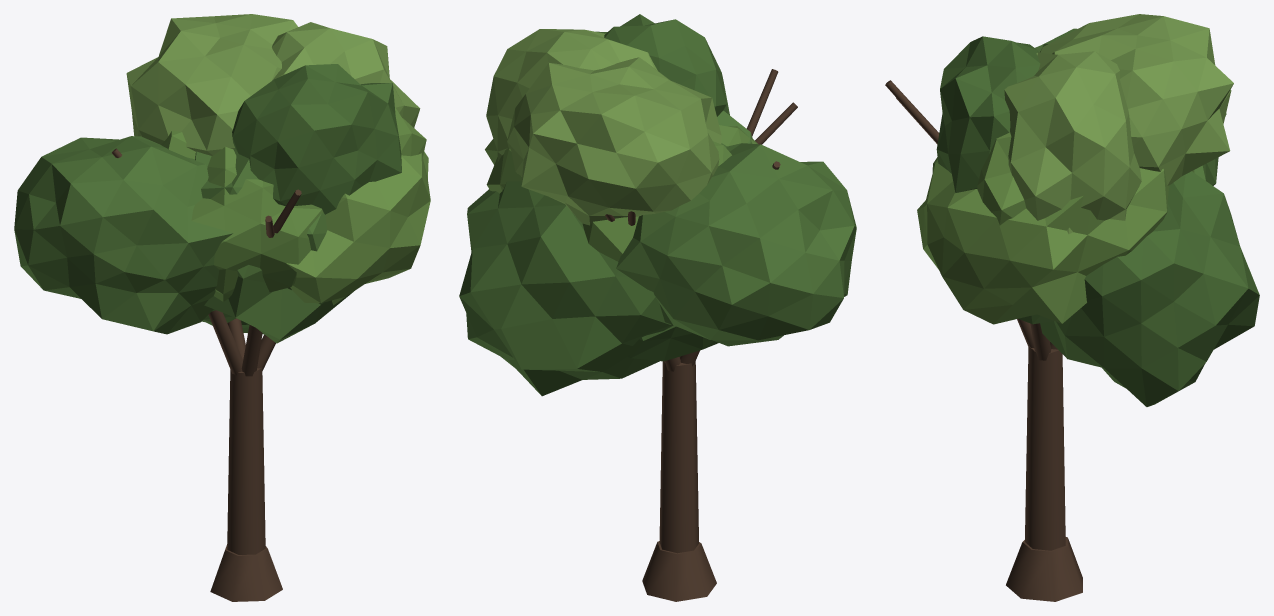
Rendered from tree-broad-0.obj.
3 renders of one model, left to right at view 1: azimuth 30°, elevation 25°; view 2: azimuth 150°, elevation 25°; view 3: azimuth 270°, elevation 25°, orthographic. The views are drawn at different scales.
Visible parts, largest first — view 1: part1; view 2: part1; view 3: part1.
Boxes of the visible parts, x1,y1,x2,y2 form: part1: [14, 14, 430, 601]; part1: [459, 14, 856, 601]; part1: [885, 14, 1259, 601].
Bounding box in the file's own units: 5.89 × 7.88 × 4.7.
